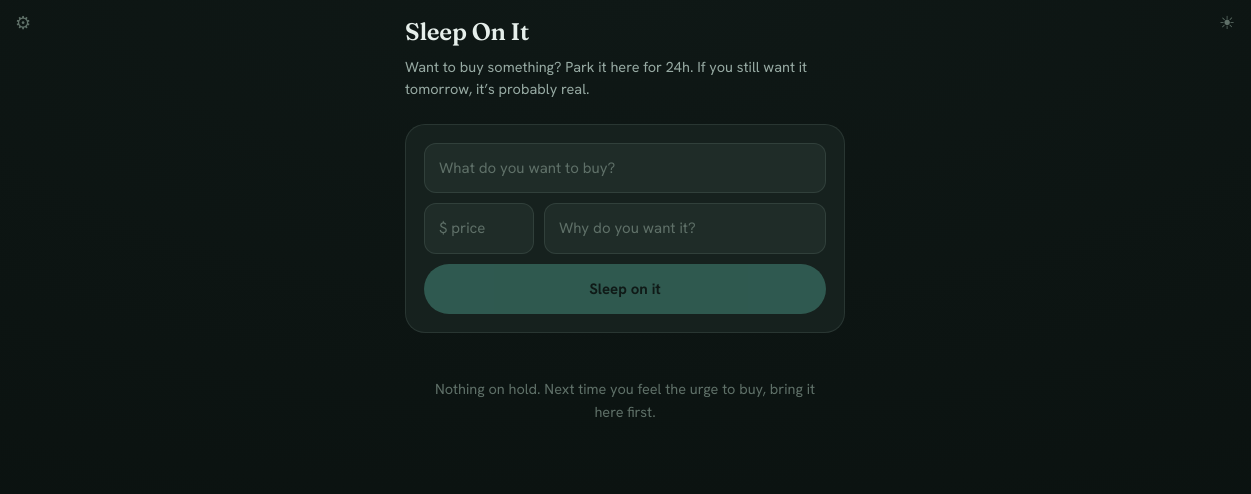
it: Sleep On It › adds an item to the on-hold list with a countdown
The width and height of the screenshot is (1251, 494).
Type "Headphones" into the field labelled "What do you want to buy?" at (625, 168), box left=424, top=142, right=826, bottom=193
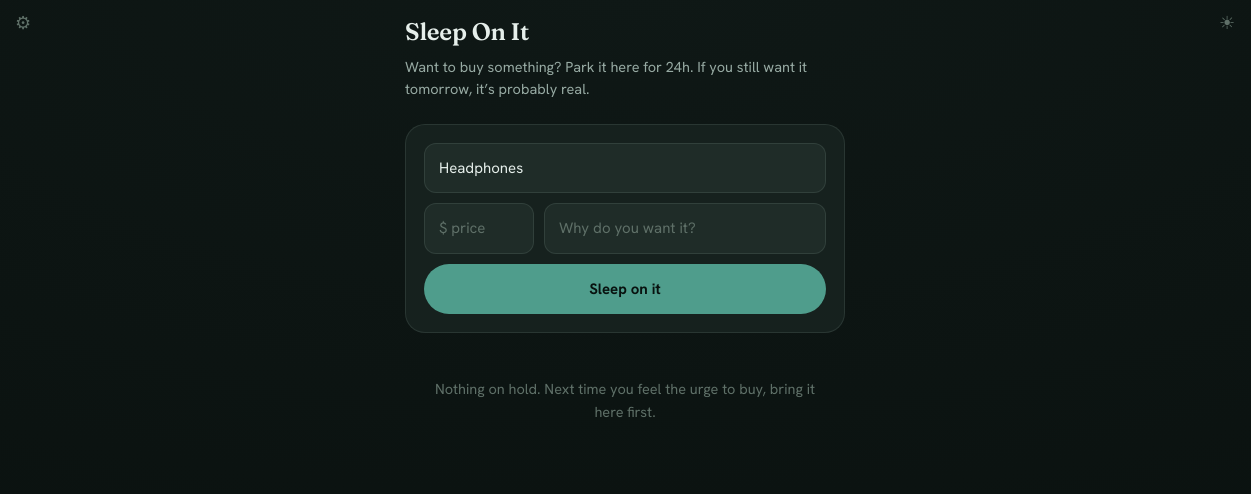
Click the button "Sleep on it" at (625, 289), box left=424, top=264, right=826, bottom=314
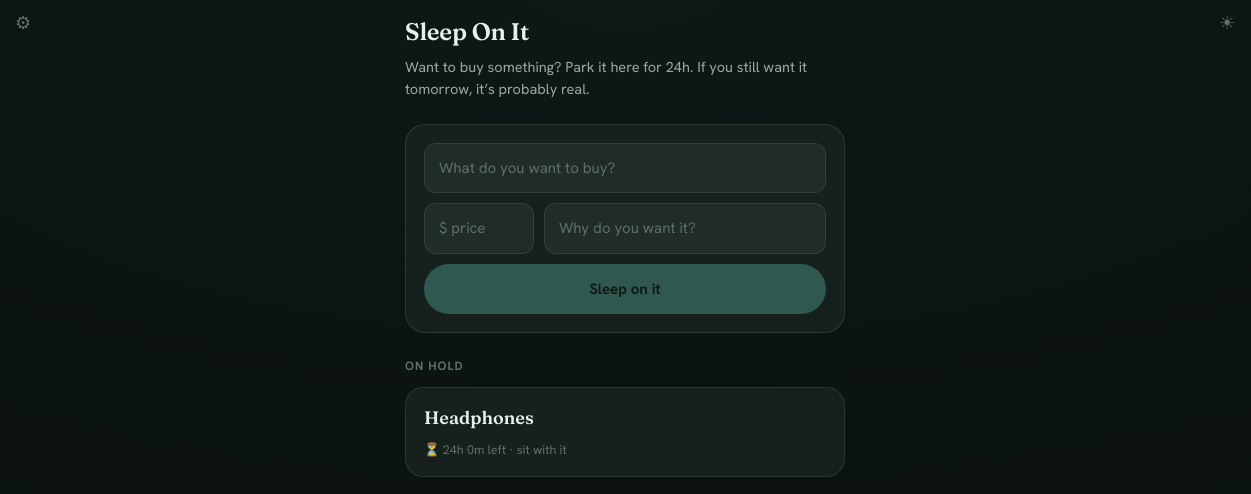
Now the text "Headphones" is shown, box left=424, top=404, right=534, bottom=431
Now the text "⏳ 24h 0m left · sit with it" is shown, box left=424, top=441, right=567, bottom=458
